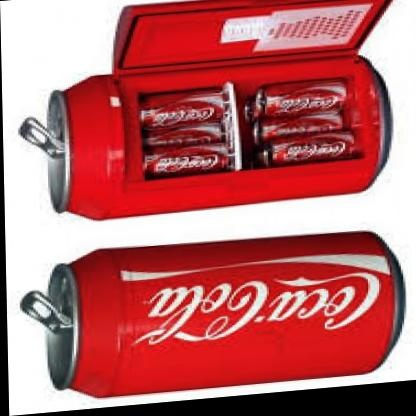trash: (20, 0, 390, 218), (21, 232, 403, 396)
